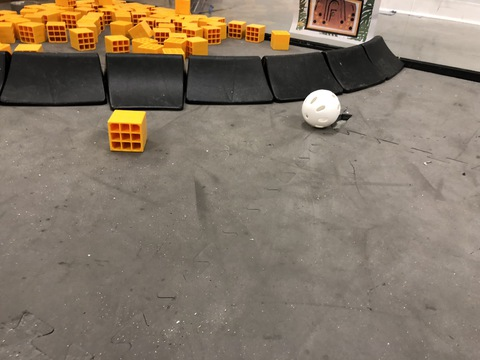ball: (291, 92, 349, 132)
block: (96, 110, 153, 161)
